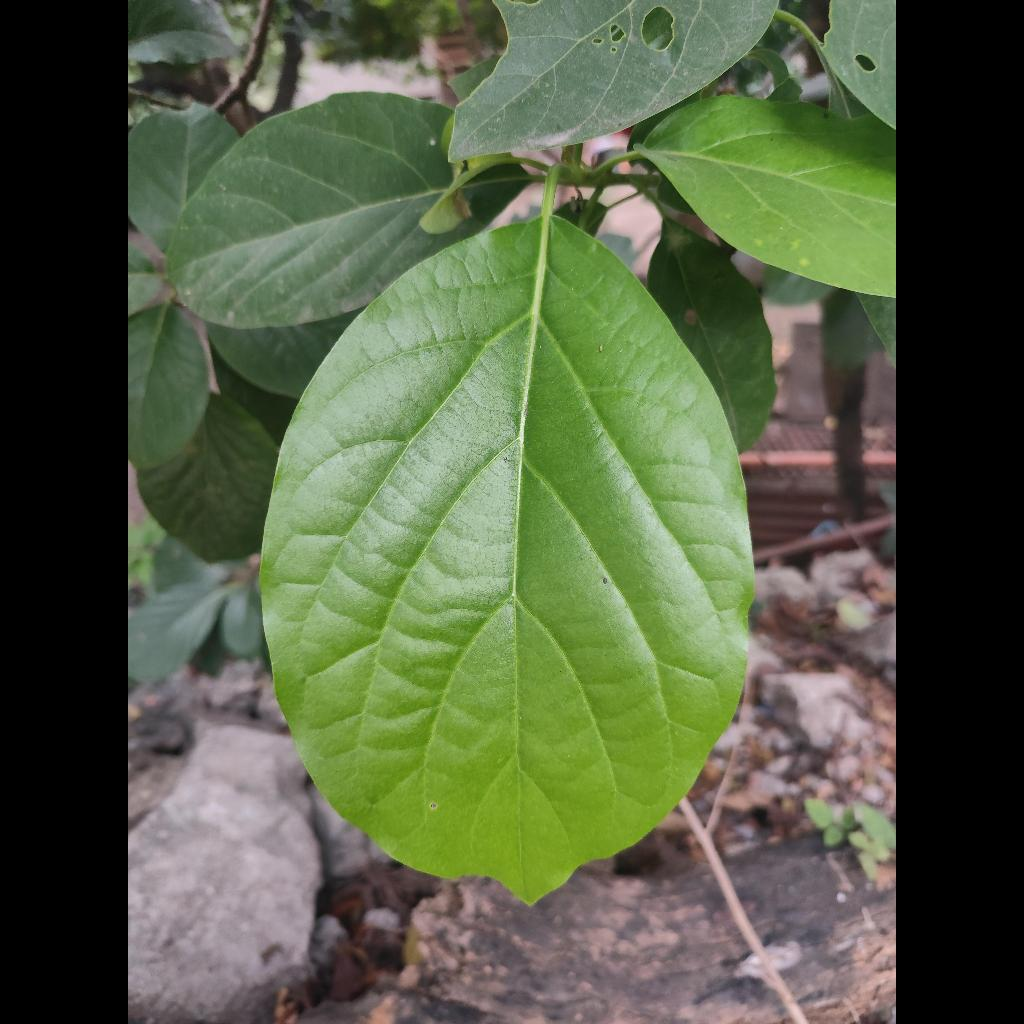Healthy: (262, 211, 752, 902)
